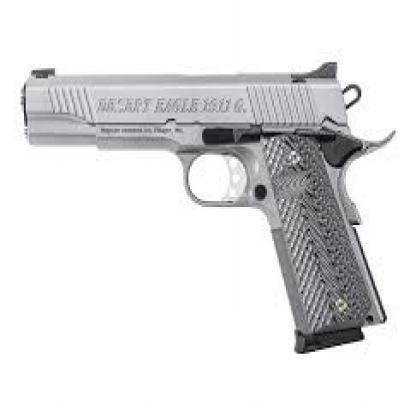Pistol: (17, 56, 397, 354)
